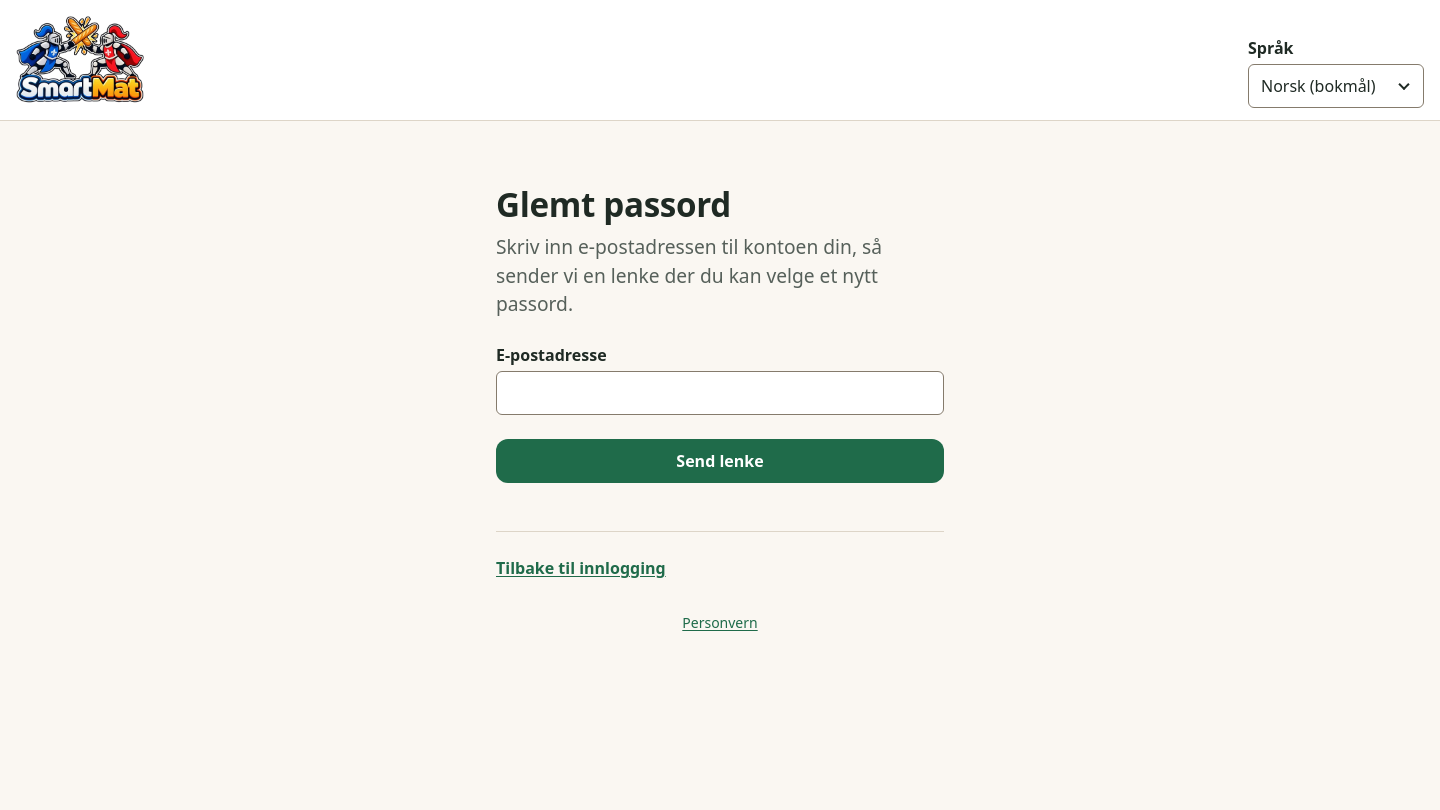
Test: FR-AUTH-006a "Glemt passord" › FR-AUTH-006e: says so when e-mail is not set up on the server
The image size is (1440, 810).
Type "kari@example.test" into the field labelled "E-postadresse".
click(720, 393); type("kari@example.test")  # box [496,371,944,415]
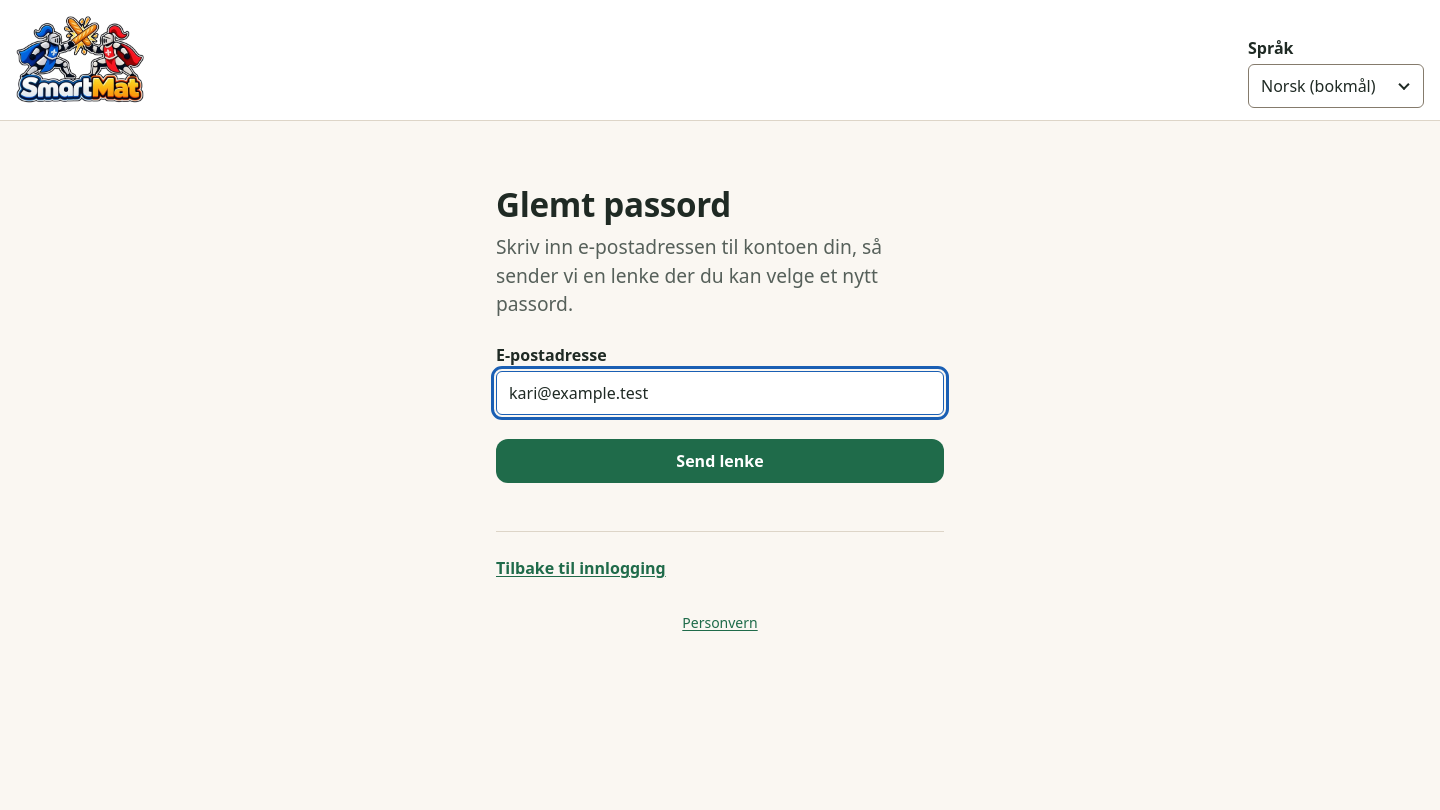
Click the button "Send lenke".
click(720, 461)  # box [496,439,944,483]
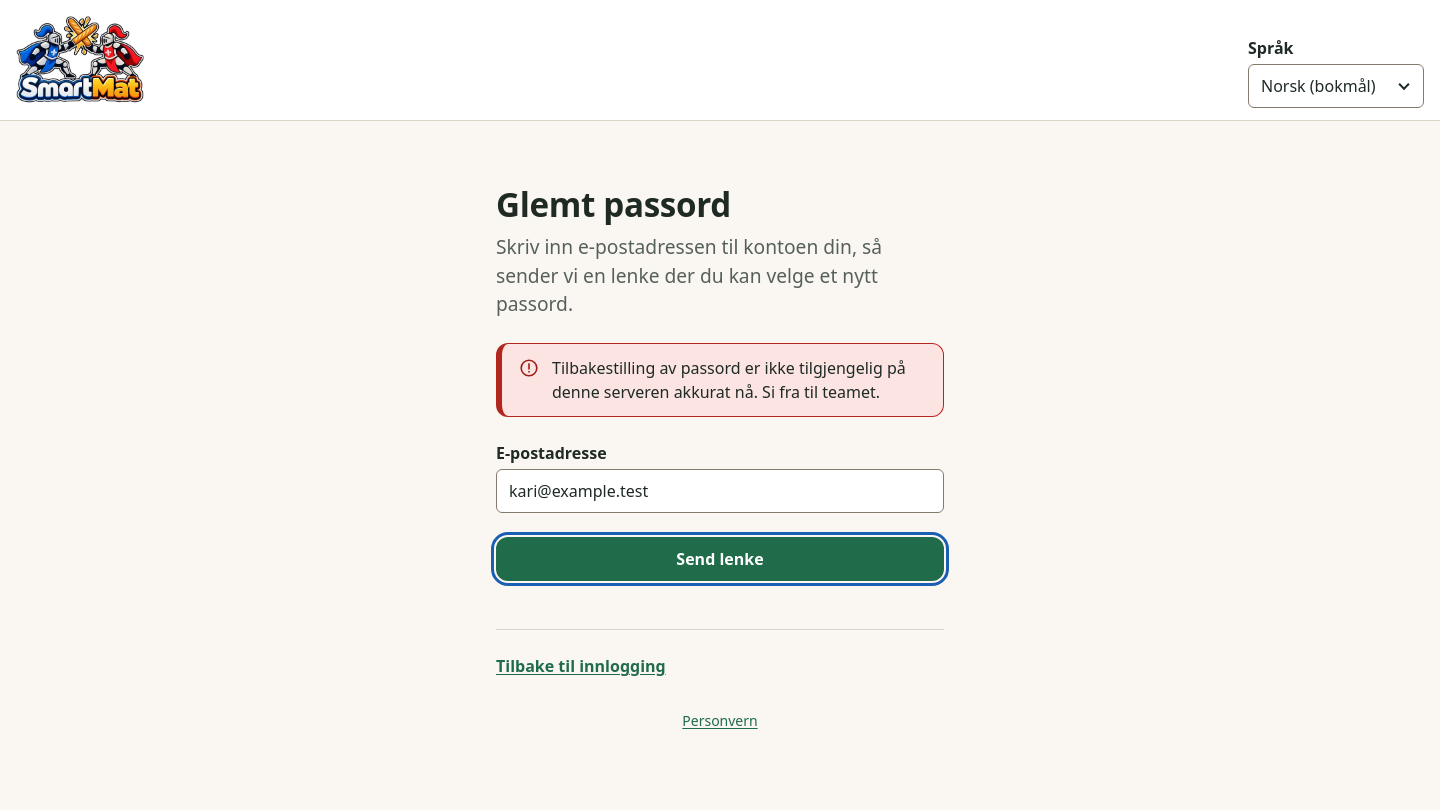
Result: the text "ikke tilgjengelig på denne serveren" is shown at [552,357,906,403]
